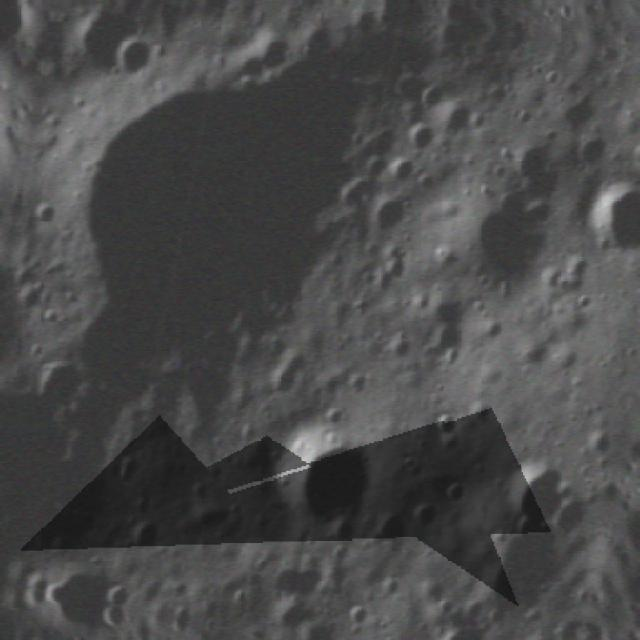crater: (22, 18, 388, 387), (431, 175, 560, 299), (271, 410, 392, 541), (468, 510, 588, 633), (567, 165, 640, 271), (501, 449, 574, 536), (22, 345, 96, 413), (268, 546, 337, 612), (495, 129, 557, 186), (360, 179, 414, 243), (426, 92, 486, 146), (547, 478, 595, 544), (109, 31, 162, 88), (354, 114, 406, 171), (574, 114, 621, 175), (118, 509, 165, 562), (364, 506, 413, 554), (430, 612, 504, 640), (407, 487, 448, 536), (400, 115, 442, 162), (441, 474, 474, 511), (427, 408, 462, 442), (515, 621, 572, 640)
